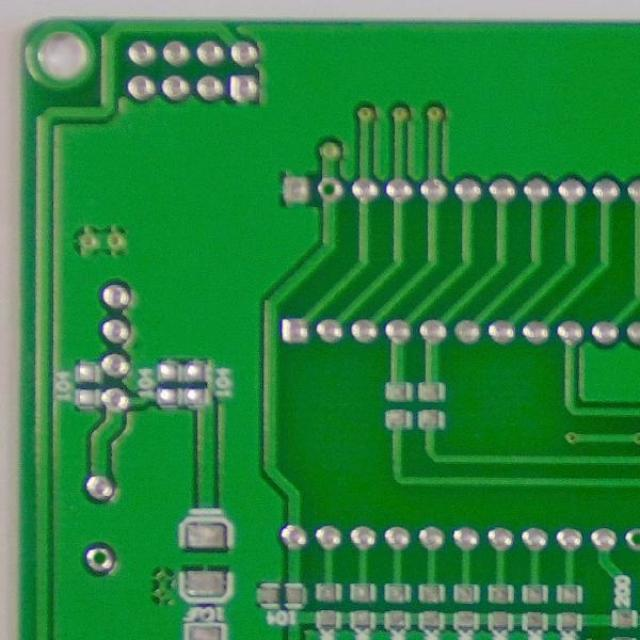Missing_Hole: (81, 544, 116, 574), (314, 176, 344, 204), (622, 526, 640, 552)
